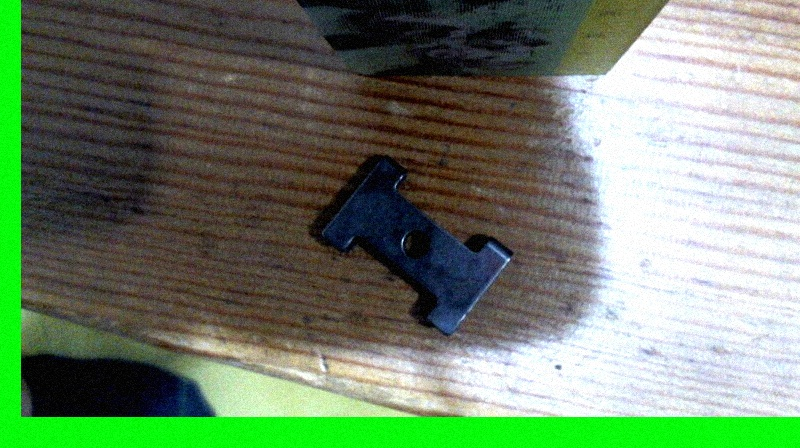O002: (320, 151, 518, 335)
